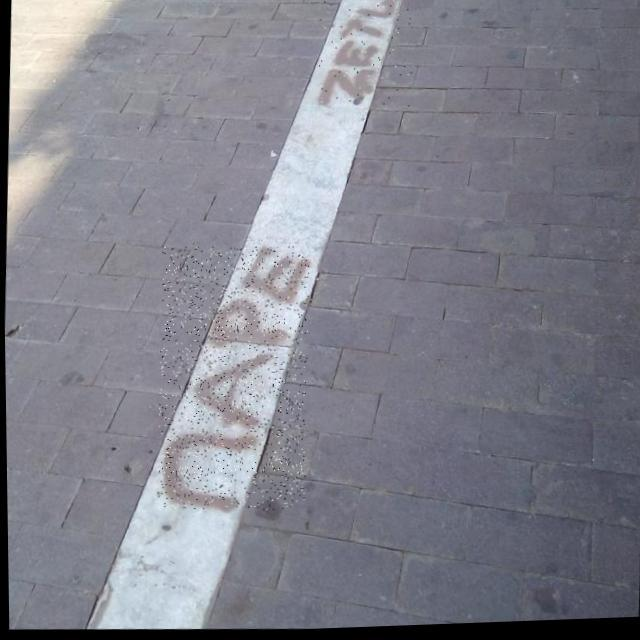-: (152, 244, 311, 516), (315, 0, 415, 112)
